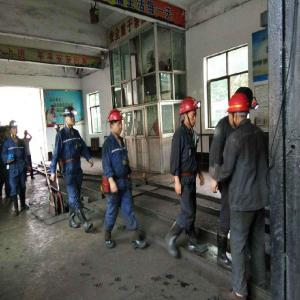blue: (62, 105, 79, 131)
red: (226, 93, 250, 131), (179, 95, 201, 130), (108, 107, 125, 138), (9, 119, 20, 139)
